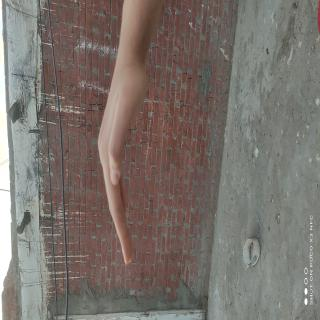HAA: (18, 212, 124, 320)
